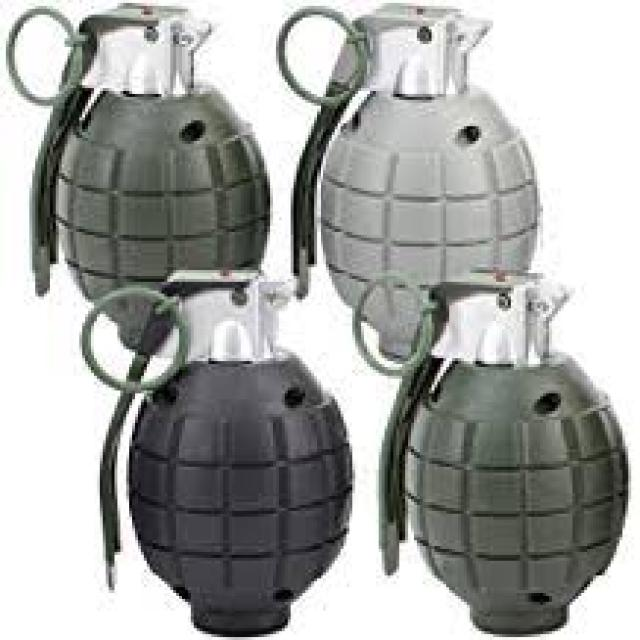grenade: (345, 264, 637, 637), (78, 259, 361, 640), (266, 1, 548, 372), (3, 1, 278, 287)
